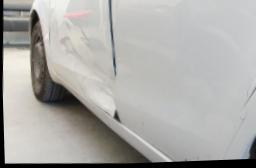Door: (69, 35, 114, 120)
